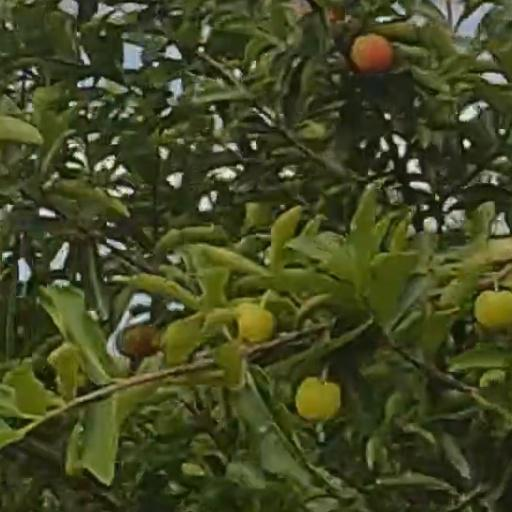acerola_verde: (299, 377, 340, 422), (475, 289, 512, 331), (240, 312, 275, 343)
acerola_vermelha: (352, 34, 394, 72)
